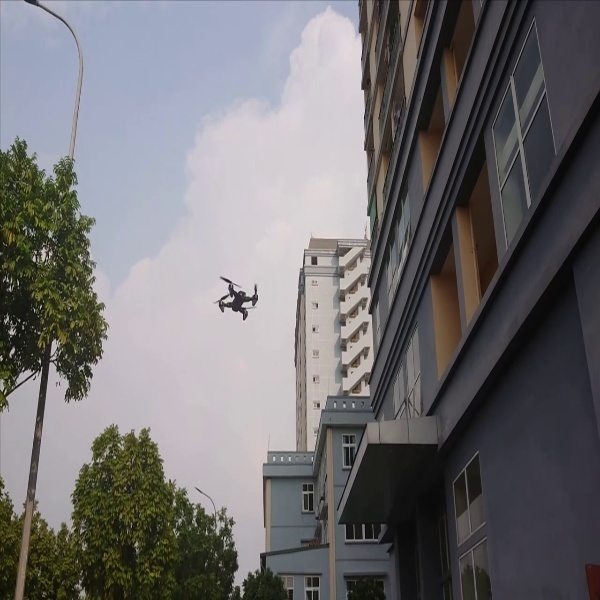drone: (203, 265, 270, 331)
